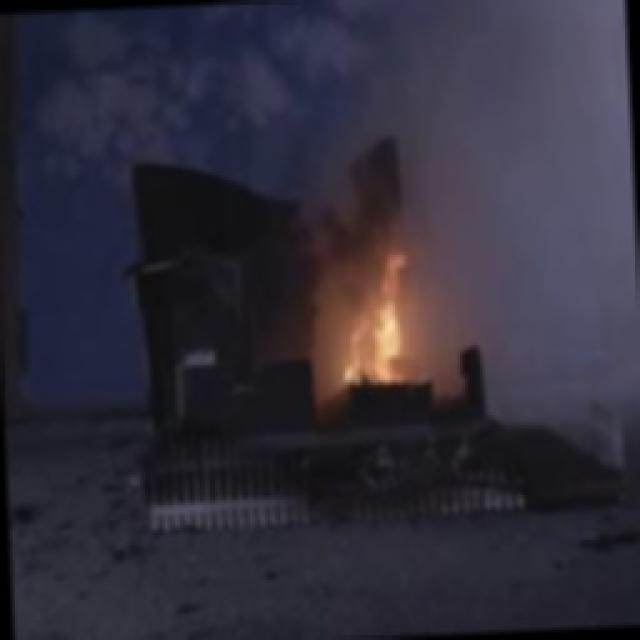fire: (310, 229, 440, 391)
smoke: (446, 0, 636, 308)
